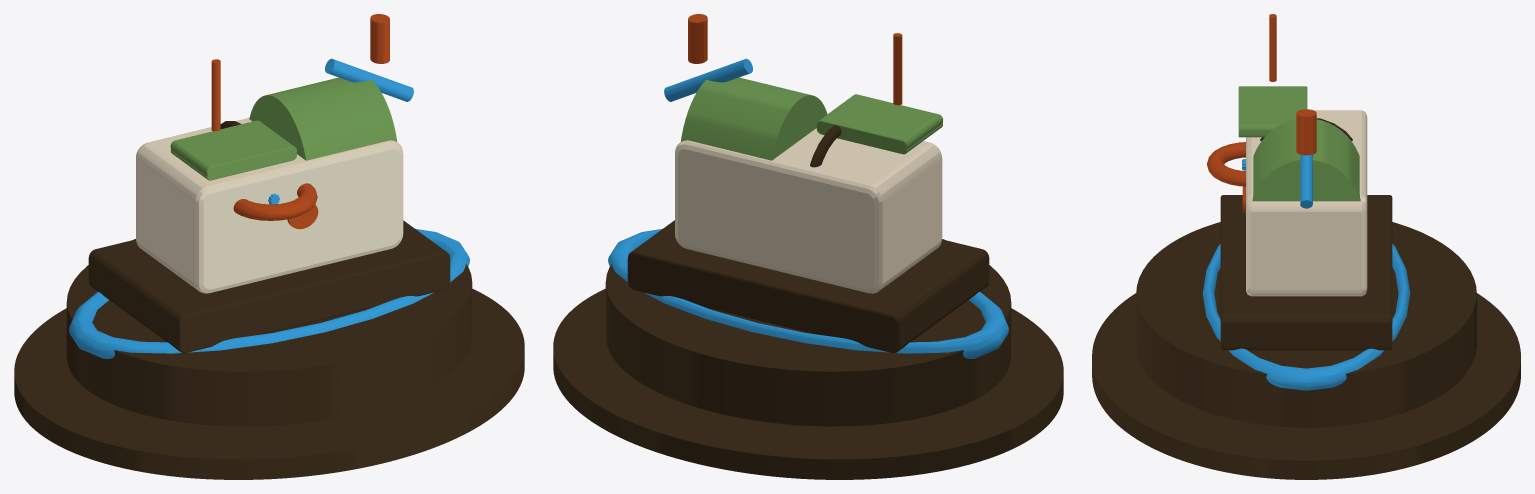
Rendered from 0557_伟大的发明图鉴_爱迪生灯泡.glb.
The picture shows the model from 3 angles, left to right: view 1: azimuth 30°, elevation 25°; view 2: azimuth 150°, elevation 25°; view 3: azimuth 270°, elevation 25°; orthographic projection. The views are drawn at different scales.
Visible parts, largest first — view 1: card_0557; view 2: card_0557; view 3: card_0557.
Boxes of the visible parts, x1,y1,x2,y2 form: card_0557: [14, 14, 524, 479]; card_0557: [553, 14, 1063, 479]; card_0557: [1092, 14, 1520, 479].
Size of the model in its own units: 1.37 by 1 by 1.19.
